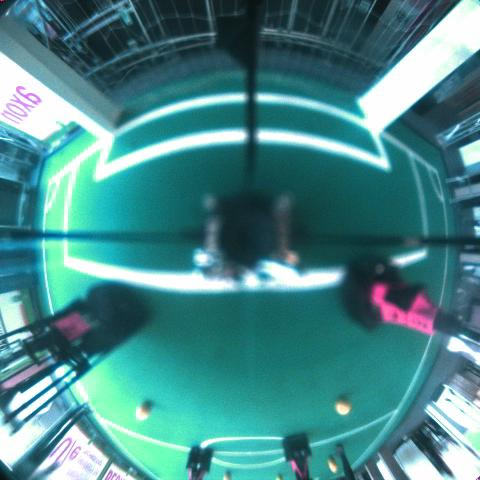ball: (335, 397, 352, 414), (135, 404, 152, 420), (328, 457, 338, 472), (224, 471, 232, 479), (276, 475, 283, 479)
goal: (360, 0, 479, 133), (0, 51, 111, 140)
person: (10, 402, 94, 479), (336, 445, 356, 479)
robot: (0, 279, 152, 436), (339, 255, 479, 343), (281, 433, 313, 479), (184, 445, 213, 479)
